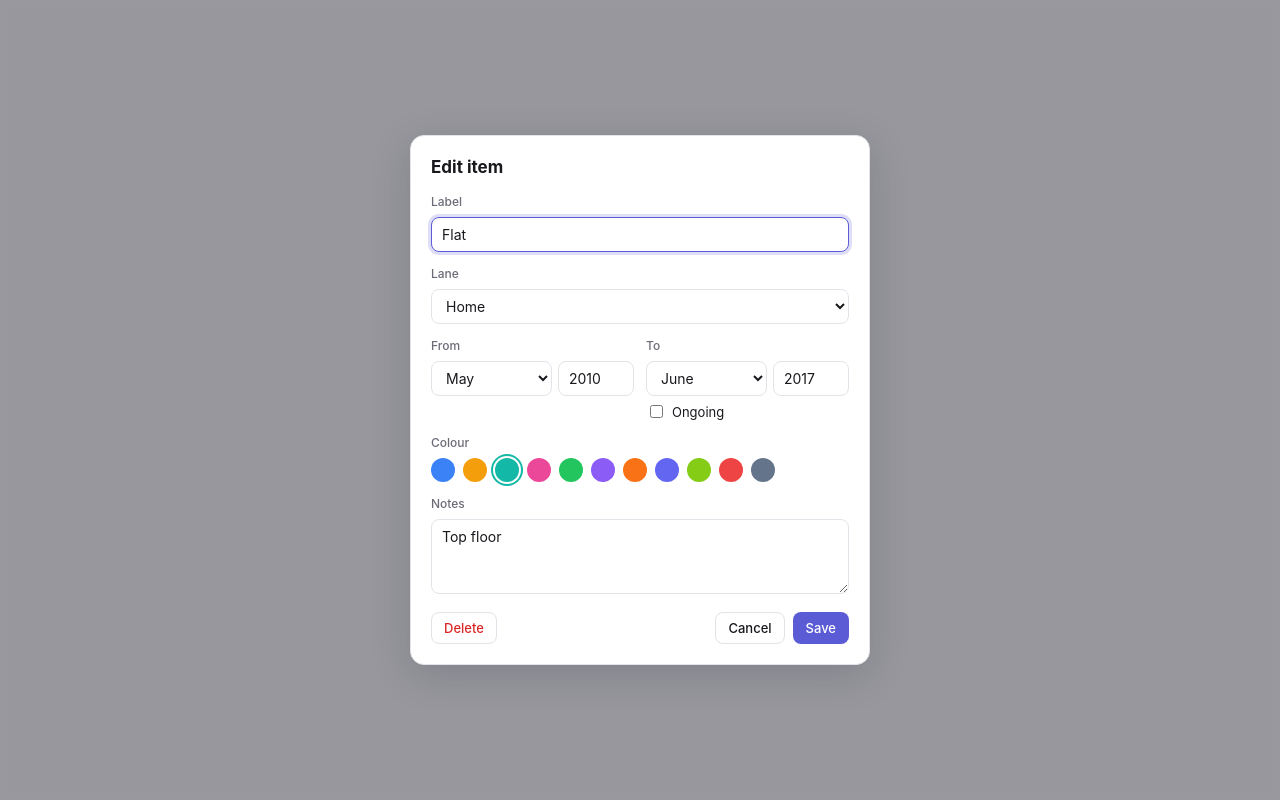
Scenario: ItemDialog › refuses an end before the start
This screenshot has width=1280, height=800.
Replace the text in the number field named "Year" below "To" with "2009" at (811, 379), box [773,361,849,396]
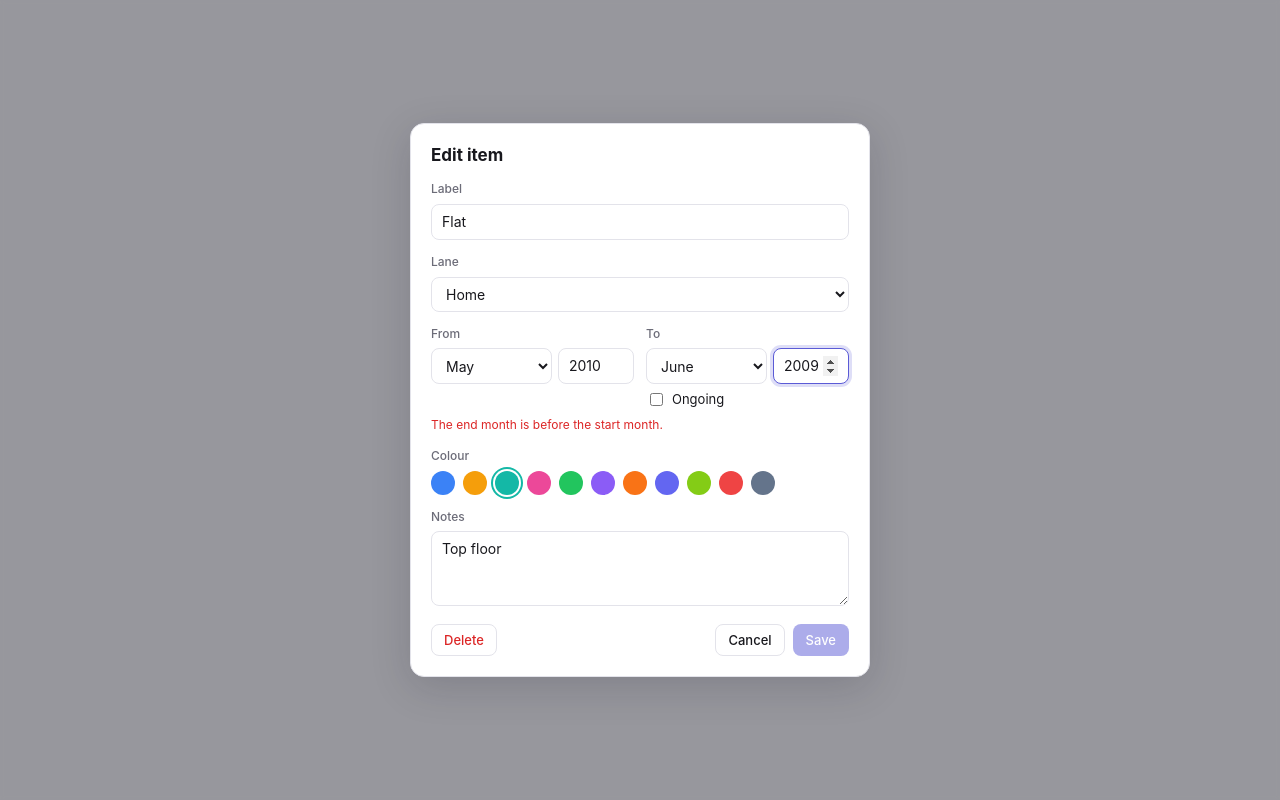
Check: the text "The end month is before the start month." is shown, box [431,417,663,432]
Check: the button "Save" is disabled, box [793,624,849,656]
